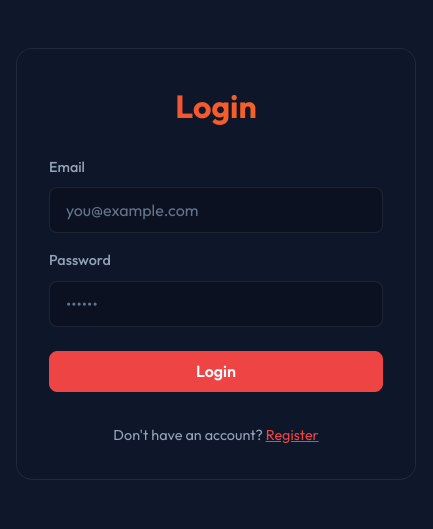
Scenario: LoginPage › shows validation error on empty submit
Click the button "Login": (216, 371) [49,350,383,392]
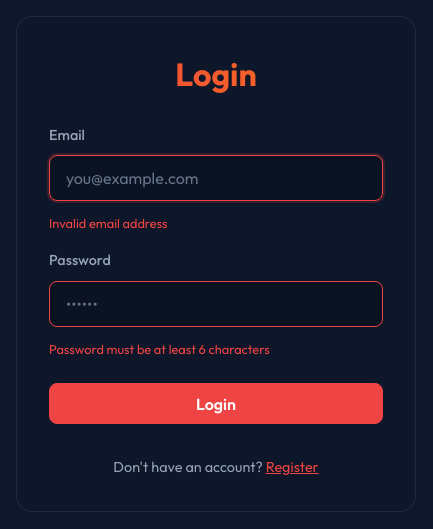
Now the text "Invalid email address" is shown, box [49,215,168,231]
